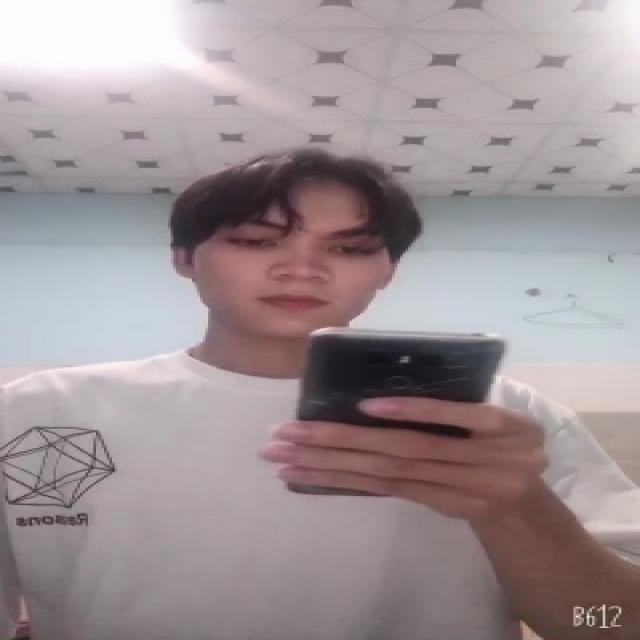Phone: (296, 324, 510, 426)
